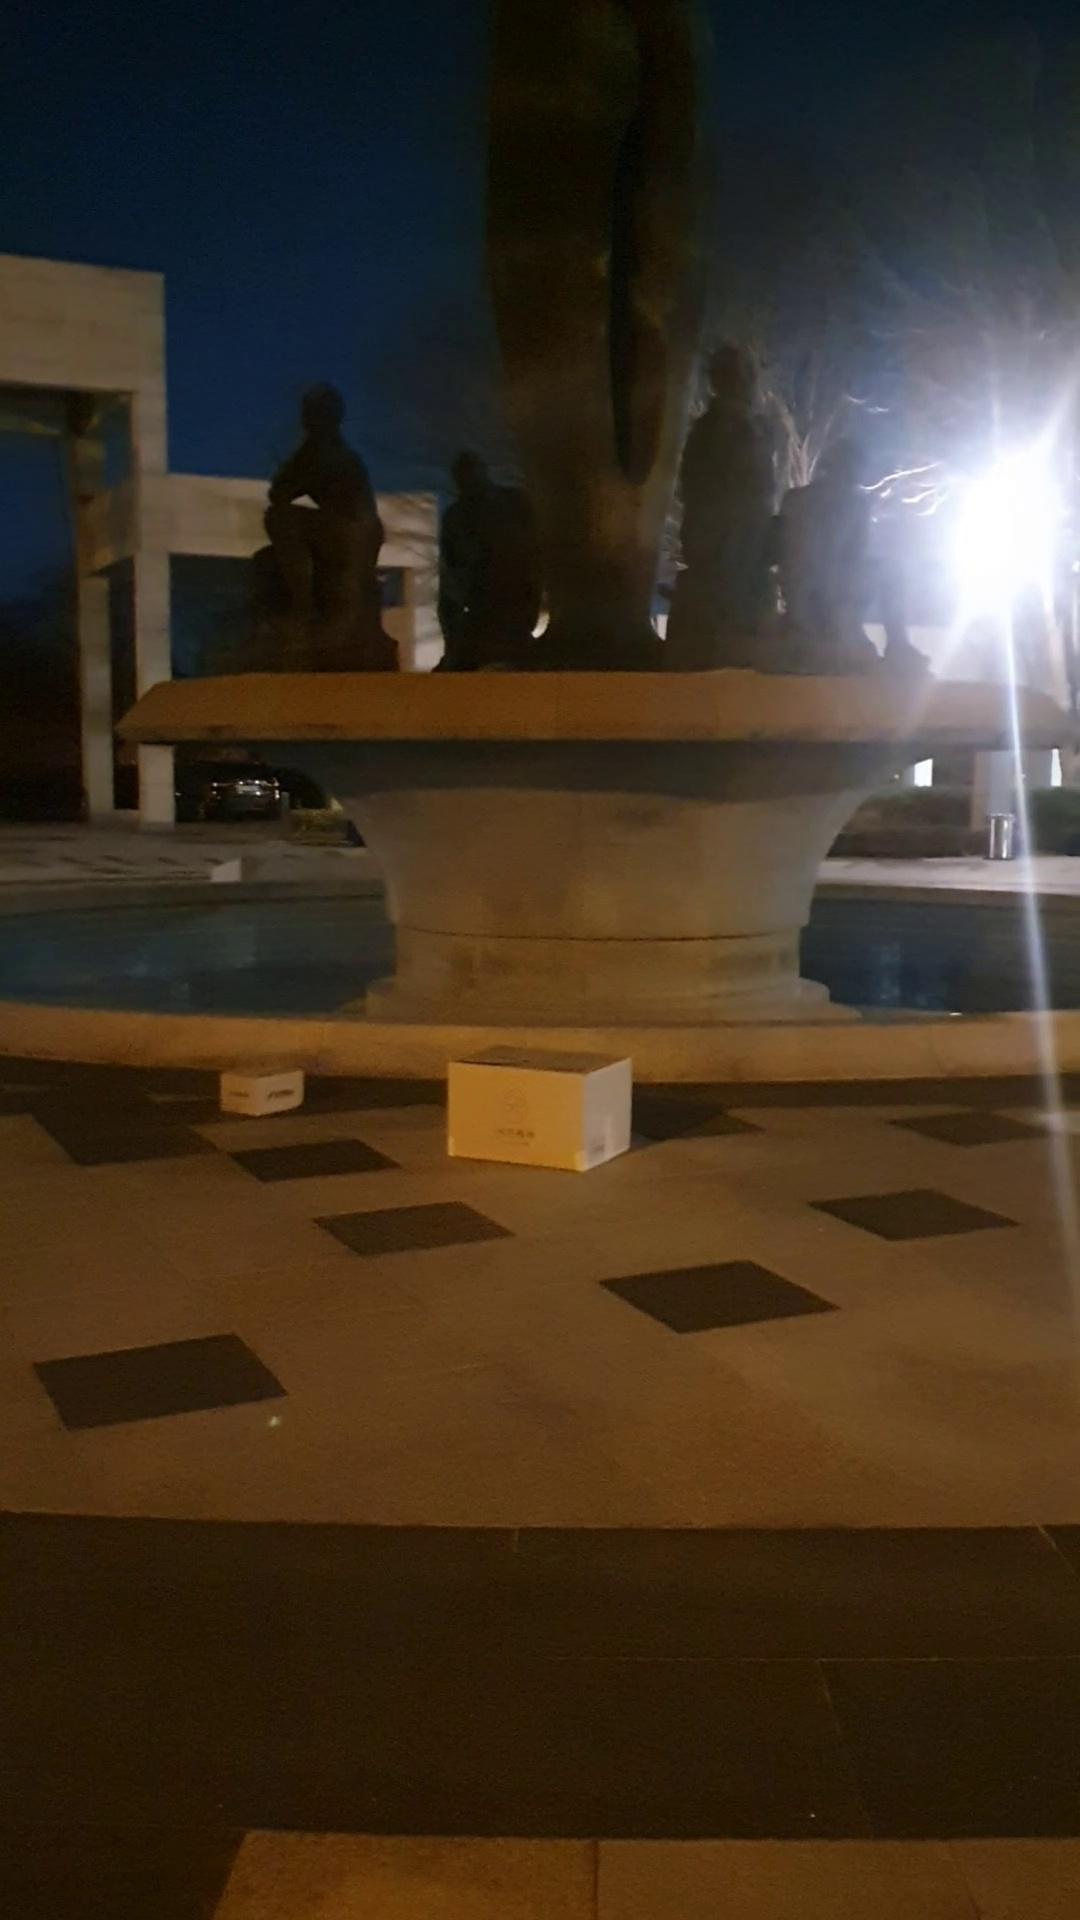Box: (436, 1038, 645, 1164), (203, 1043, 313, 1118)
